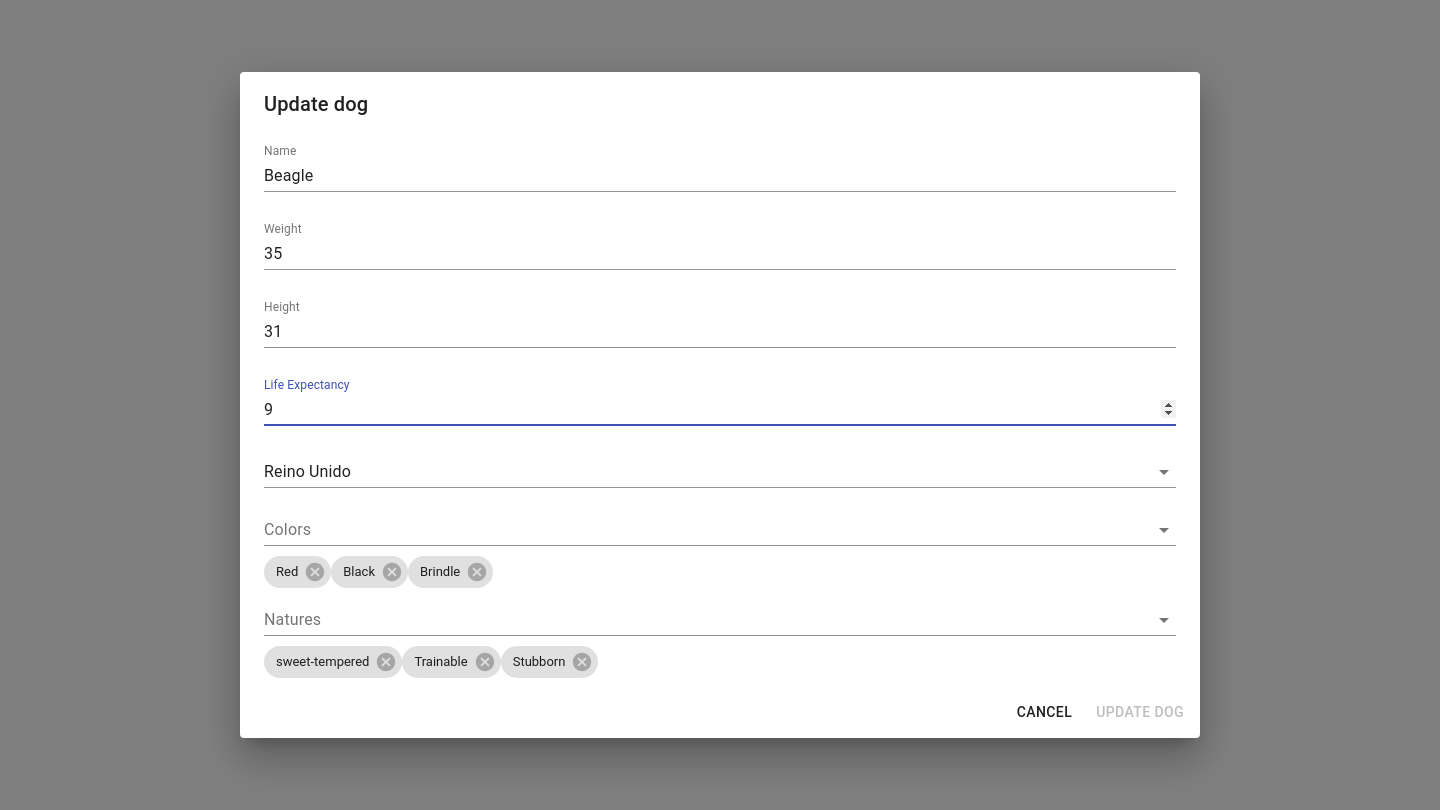
Test: Error cases - validations, edit dialog from › Should show error message when all colors are removed
Click the icon with test id "e2e-delete-color-Black": point(392, 572) [381,561,403,583]
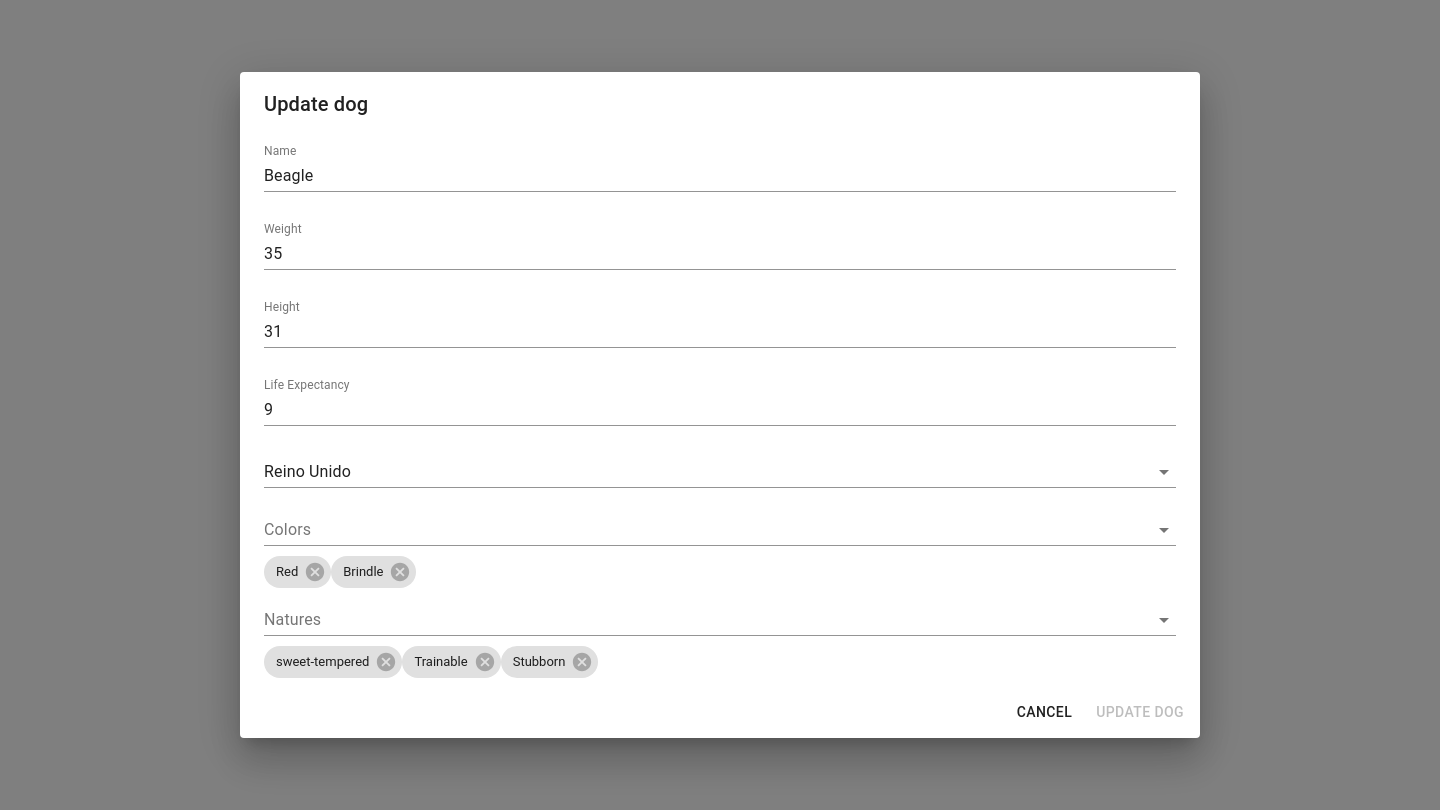
Click the icon with test id "e2e-delete-color-Red": point(315, 572) [304,561,326,583]
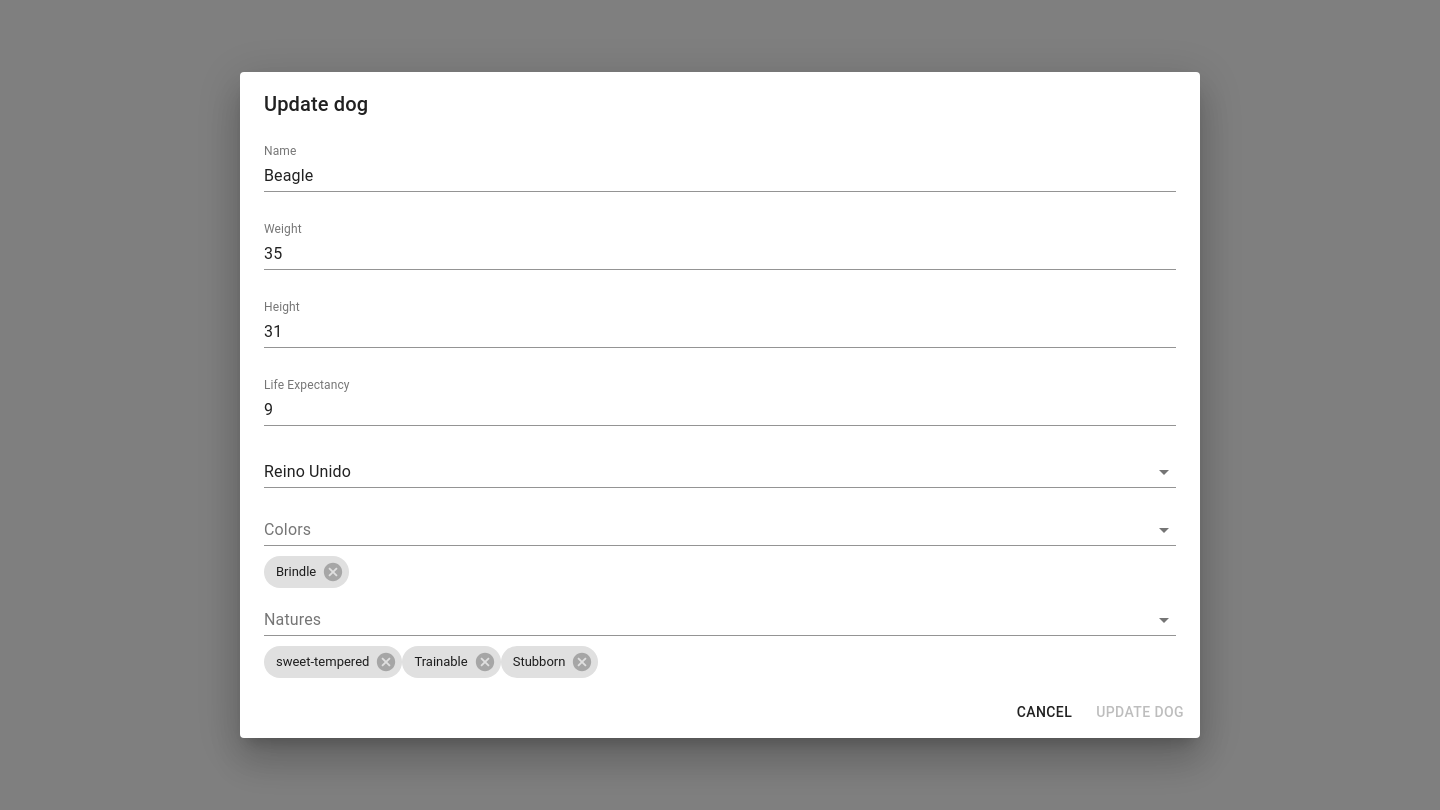
Click the icon with test id "e2e-delete-color-Brindle": point(333, 572) [322,561,344,583]
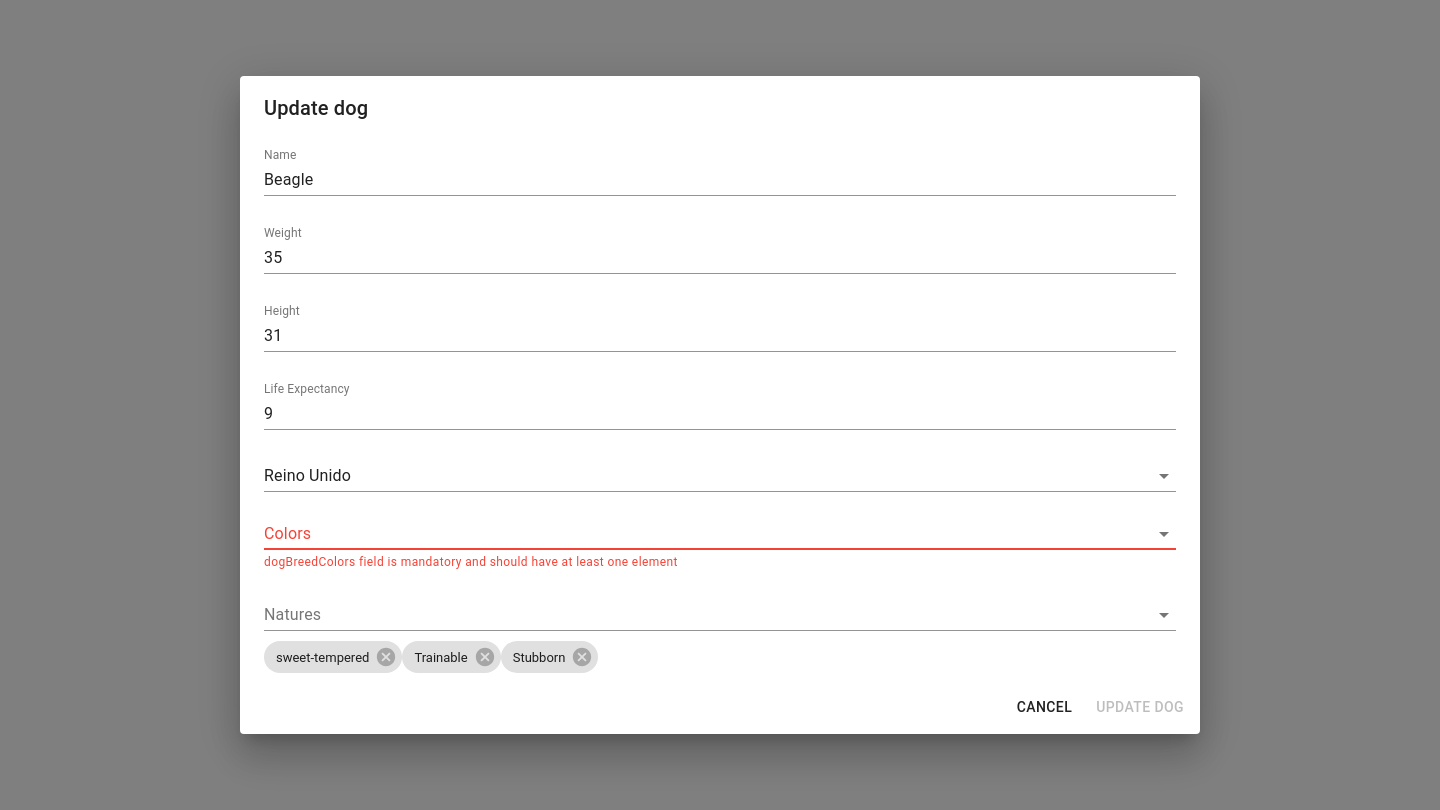
Expected: the text "dogBreedColors field is mandatory and should have at least one element" is shown, [264,555,678,569]
